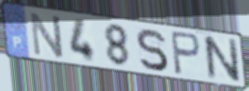4: (68, 17, 99, 65)
8: (103, 22, 132, 68)
N: (201, 34, 242, 84), (29, 10, 66, 60)
P: (169, 29, 203, 78)
S: (134, 27, 170, 73)
